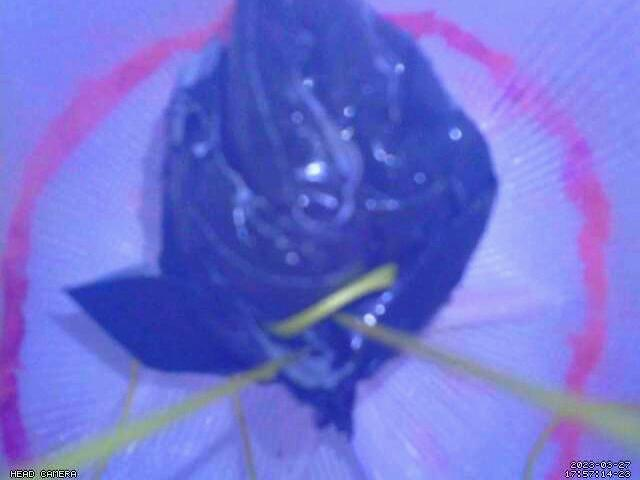head: (0, 0, 614, 480)
